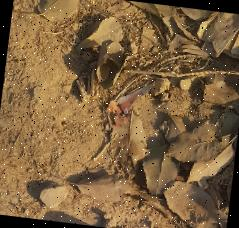organic: (78, 9, 138, 91), (153, 173, 227, 228), (104, 106, 156, 172), (164, 120, 228, 170), (62, 169, 144, 206), (189, 71, 239, 116), (29, 0, 78, 25)
